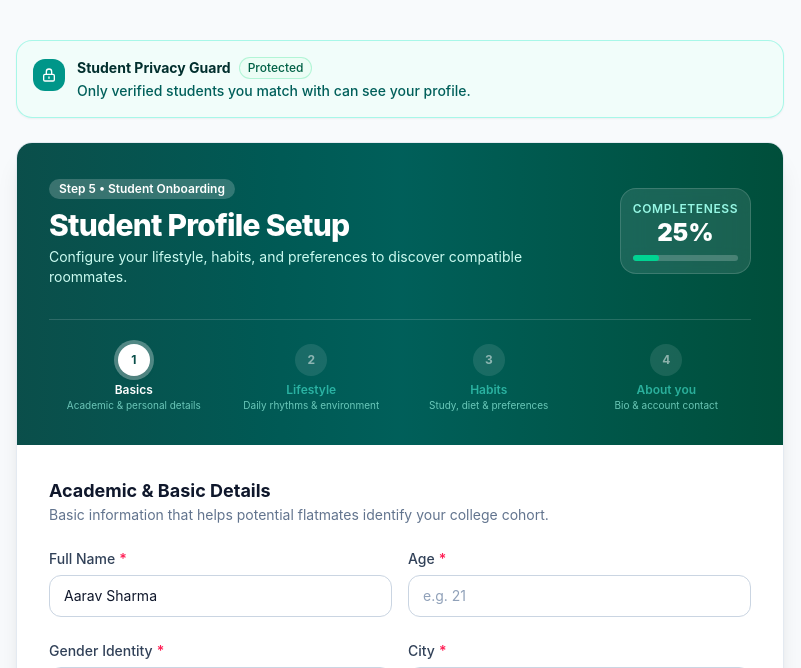
Test case: ProfileOnboardingPage Component › validates Step 1 fields when values are invalid
Clear the field labelled "Full Name*": (220, 596) x1=49 y1=575 x2=392 y2=617
(page scrolled)
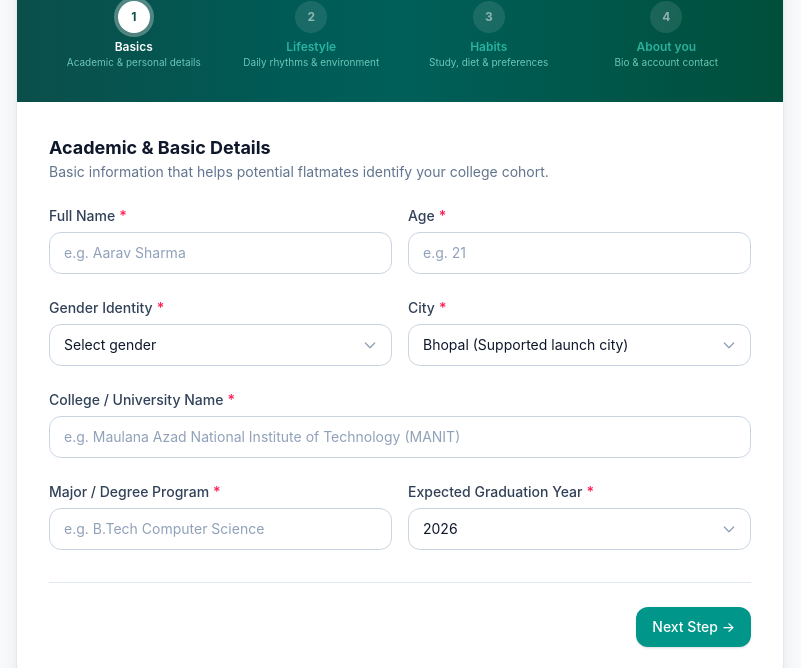
Click the button "Next Step →": (694, 627) x1=636 y1=607 x2=751 y2=647
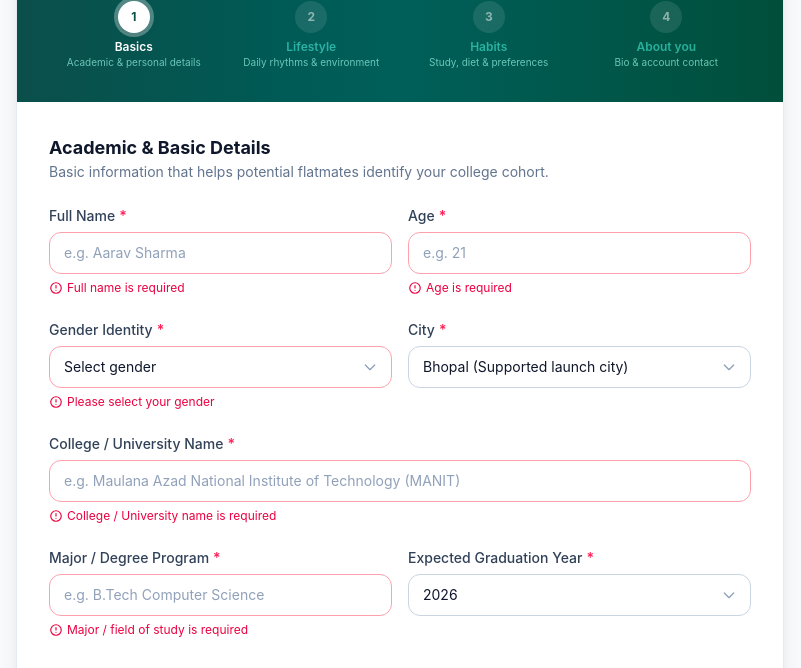
Now the text "Full name is required" is shown, box x1=67 y1=280 x2=185 y2=296
Now the text "Age is required" is shown, box x1=426 y1=280 x2=512 y2=296
Now the text "Please select your gender" is shown, box x1=67 y1=394 x2=214 y2=410
